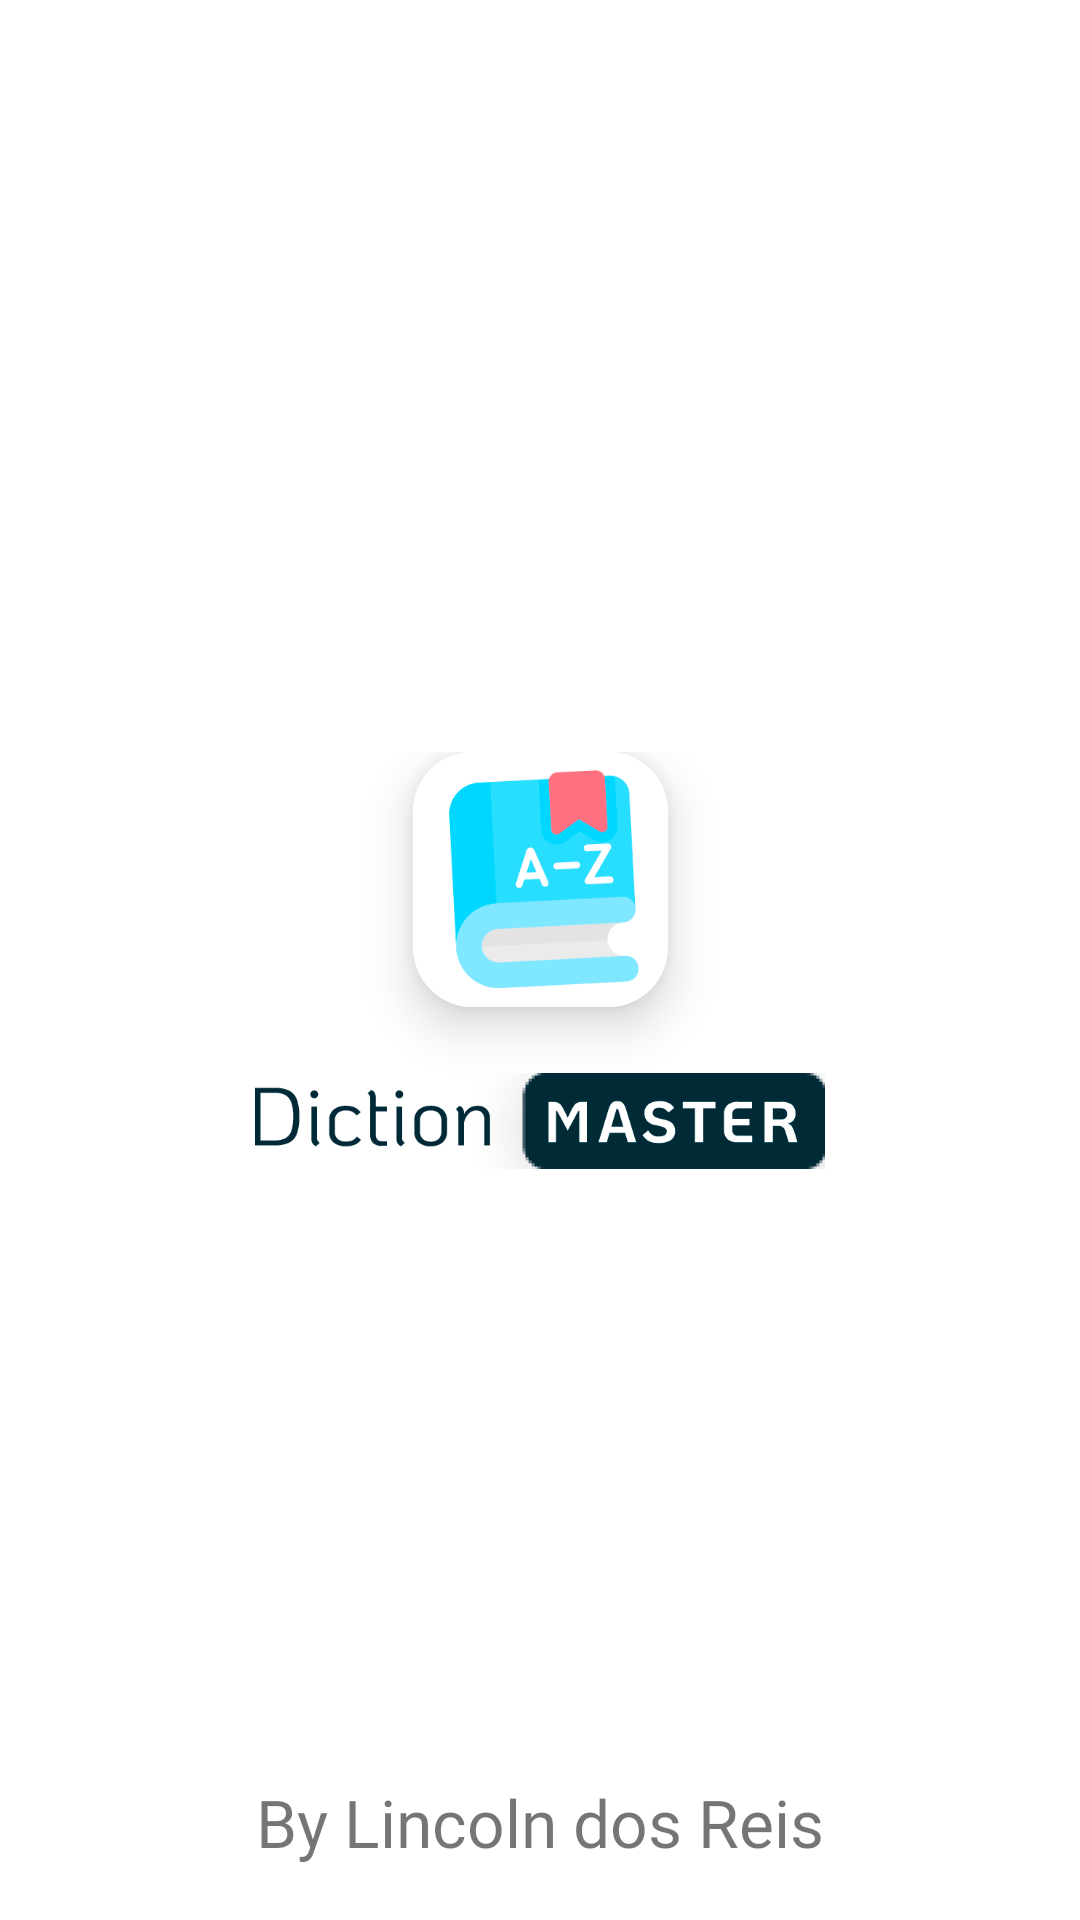

Where to tap for icons on this 1080*1920 app screen, as (x,y):
book: (544,879)
